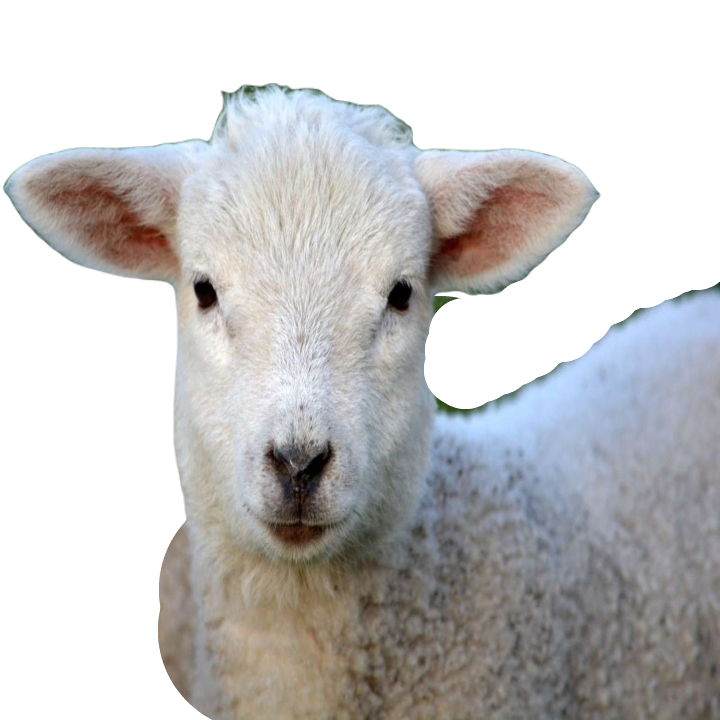Sheep: (0, 77, 720, 719)
